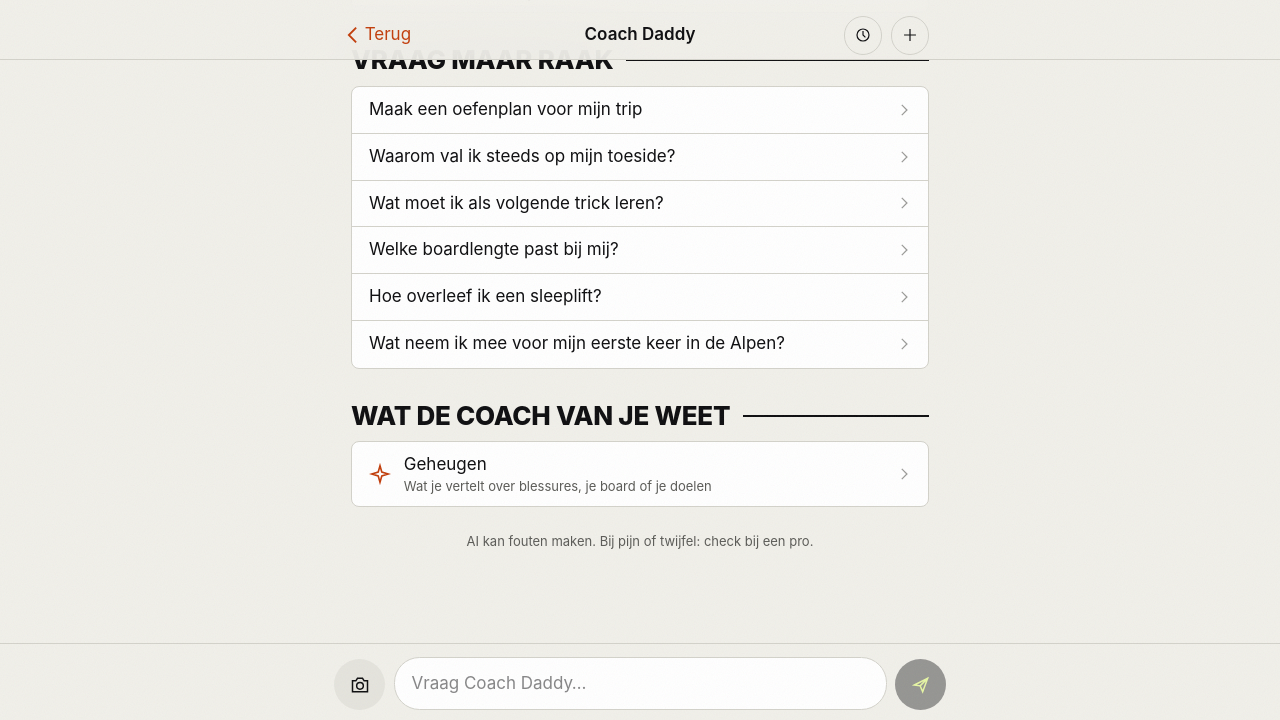
Scenario: gesprek › oefenplan als kaart; "Zet als doelen" maakt een doel per dag
The image size is (1280, 720).
(page scrolled)
Click the button "Maak een oefenplan voor mijn trip" at (640, 110), box [352, 87, 928, 134]
(page scrolled)
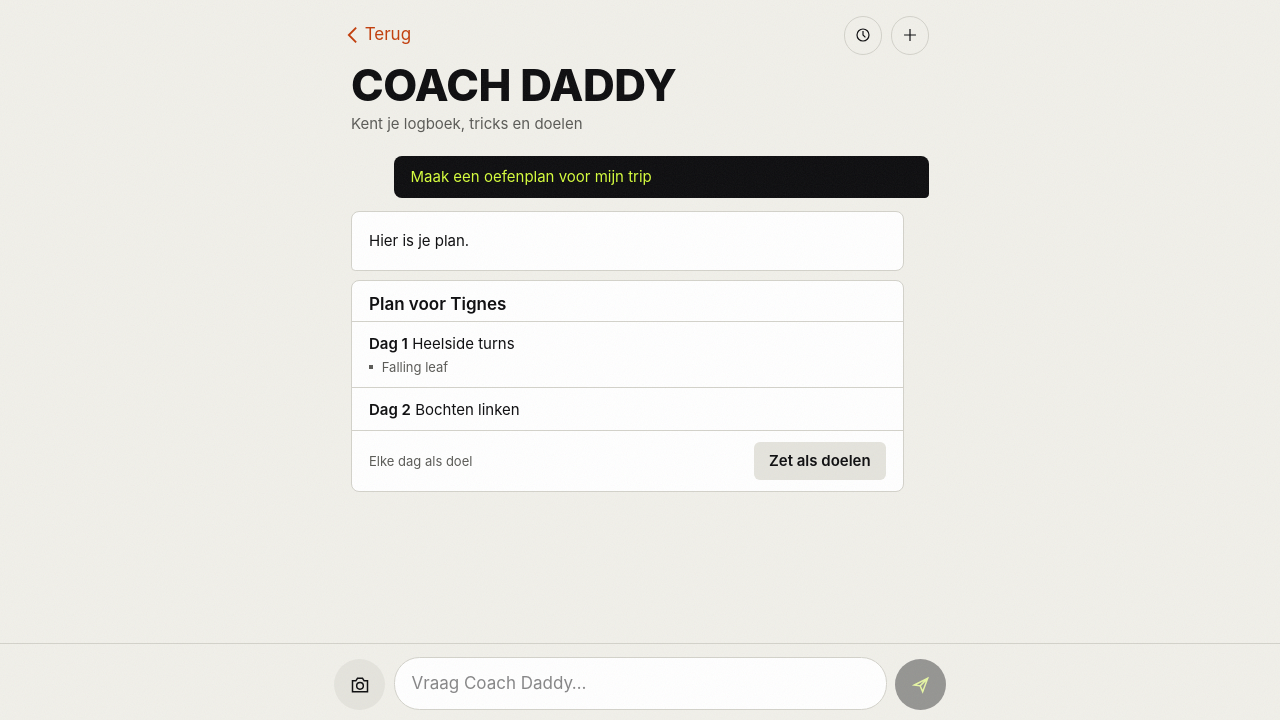
Result: the text "Plan voor Tignes" is shown at [352, 280, 902, 322]
Result: the list item "Falling leaf" is shown at [369, 359, 448, 375]
Click the button "Zet als doelen" at (820, 461), box [754, 442, 886, 480]
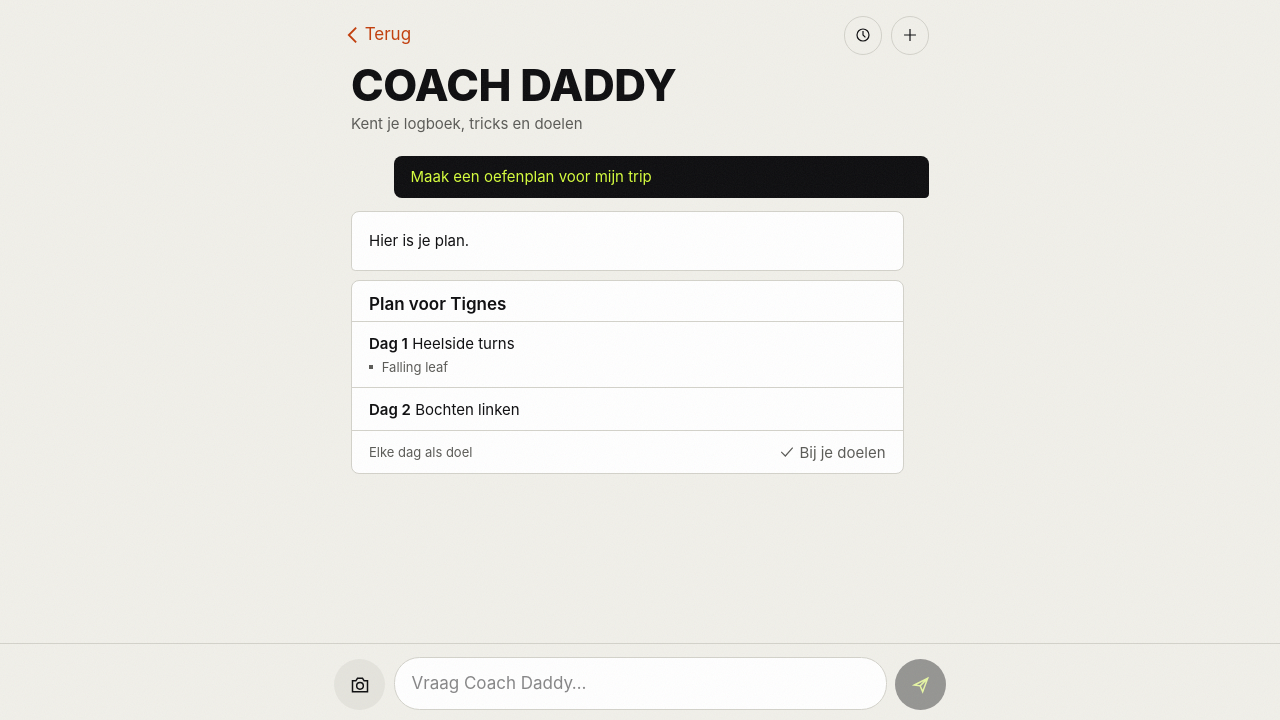
Result: the text "Bij je doelen" is shown at [779, 442, 886, 463]
